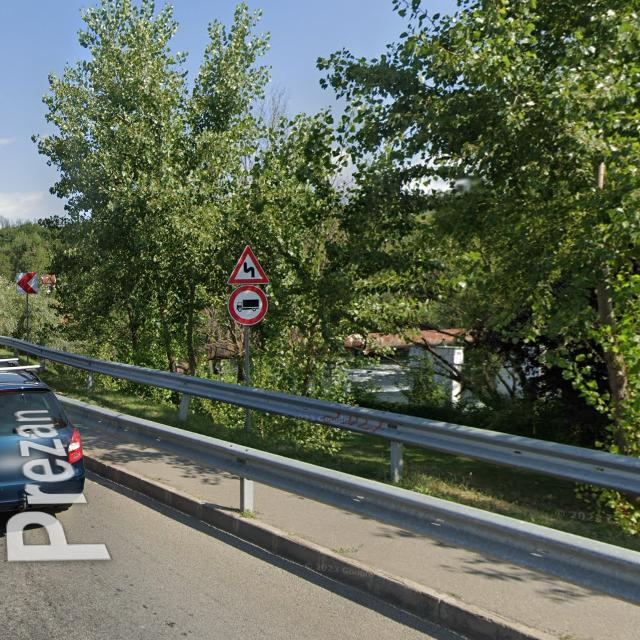forb_trucks: (228, 284, 268, 324)
